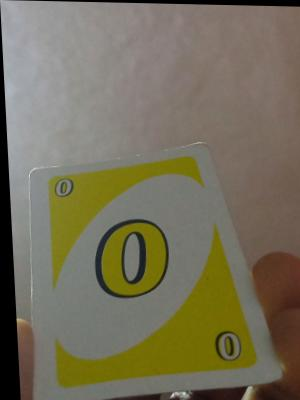num_0: (40, 173, 87, 214)
